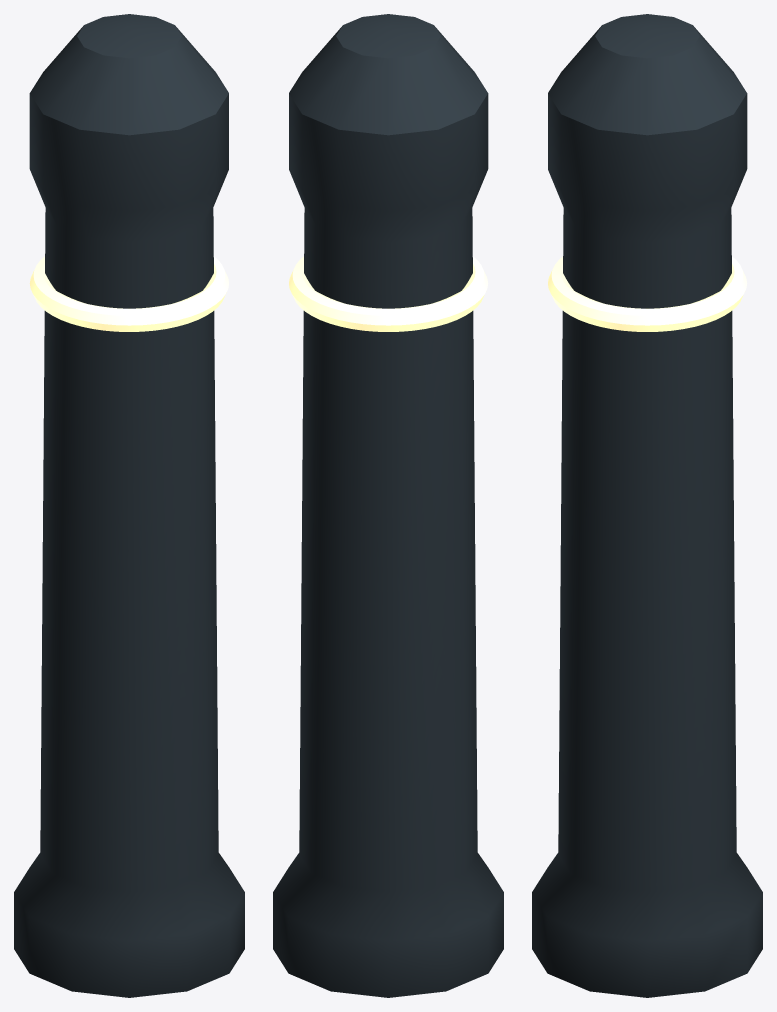
File: bollard.lod0.glb
3 renders of one model, left to right at view 1: azimuth 30°, elevation 25°; view 2: azimuth 150°, elevation 25°; view 3: azimuth 270°, elevation 25°, orthographic.
Parts seen in each view (by area): view 1: structure; view 2: structure; view 3: structure.
Part boxes in pixels (<box>): structure: <box>14,14,244,997</box>; structure: <box>273,14,503,997</box>; structure: <box>532,14,762,997</box>.
Size of the model in its own units: 0.22 by 0.97 by 0.22.
